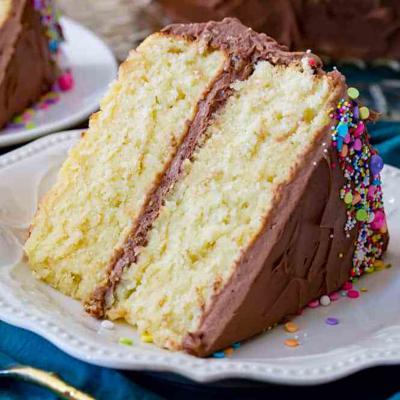cake: (19, 15, 389, 359)
